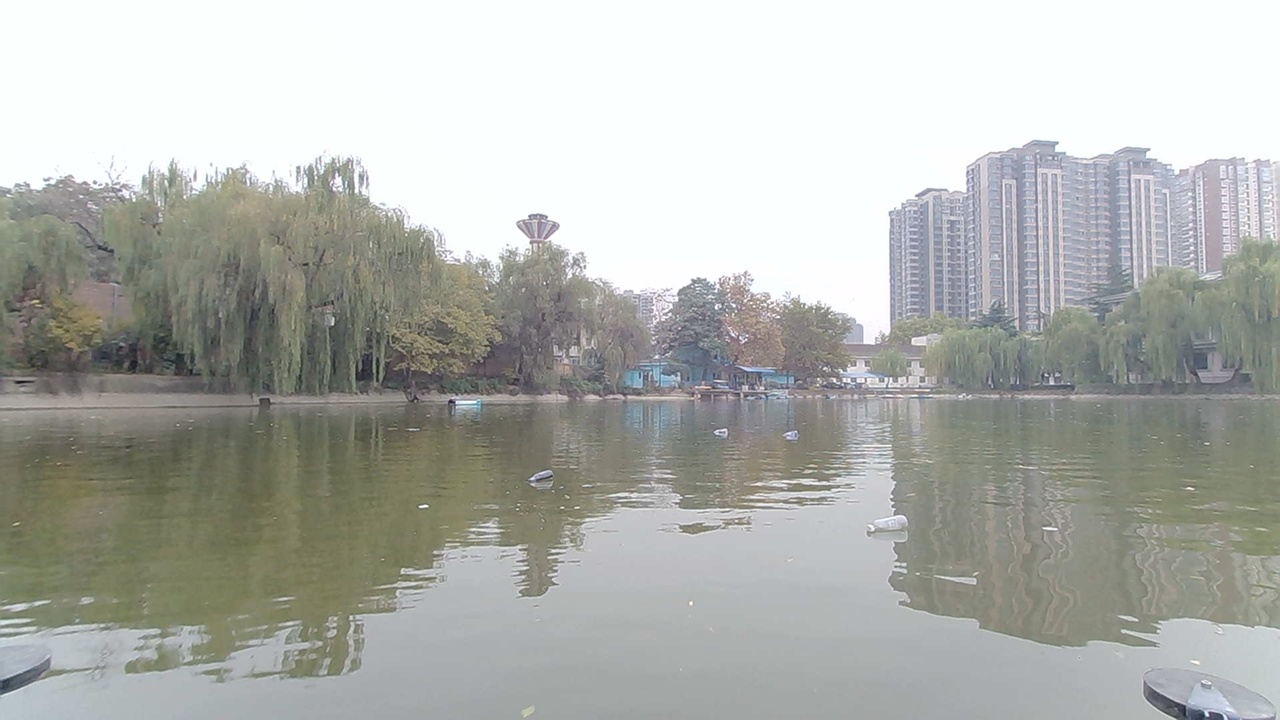bottle: (528, 469, 558, 491), (876, 517, 906, 538), (778, 426, 811, 443), (711, 420, 733, 439)
